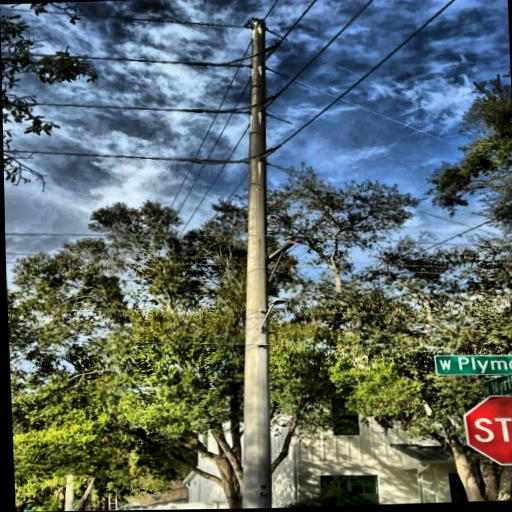pole: (213, 17, 294, 509)
street light: (255, 298, 290, 335)
